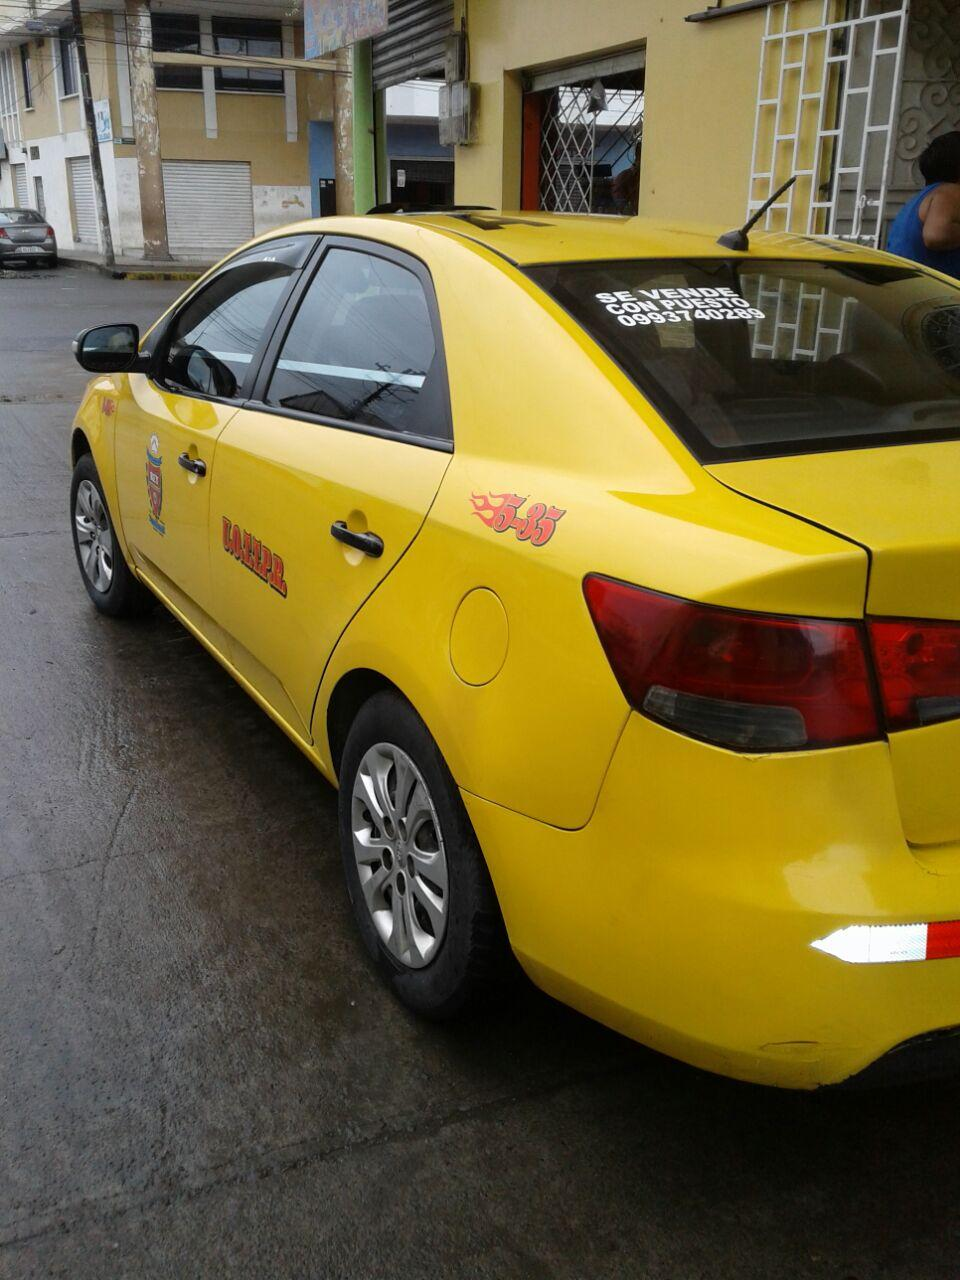taxi: (21, 159, 960, 1075)
